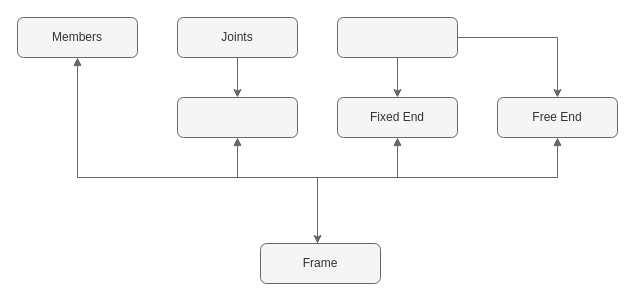
The diagram is 635 pixels wide and 301 high, and some of its shapes have lost their labels. Each missing label, with the centre of its shape:
"BCs" goes at pixel 397 37.
"Two Member Joint" goes at pixel 237 117.
